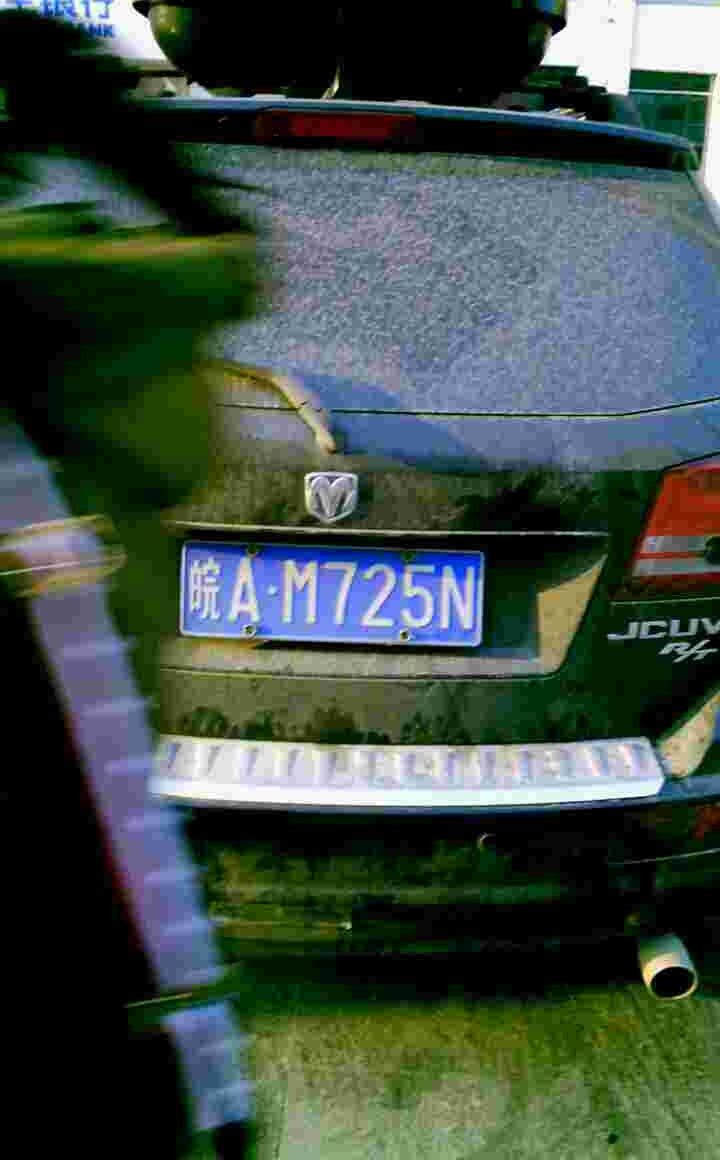license_plate: (189, 541, 478, 645)
